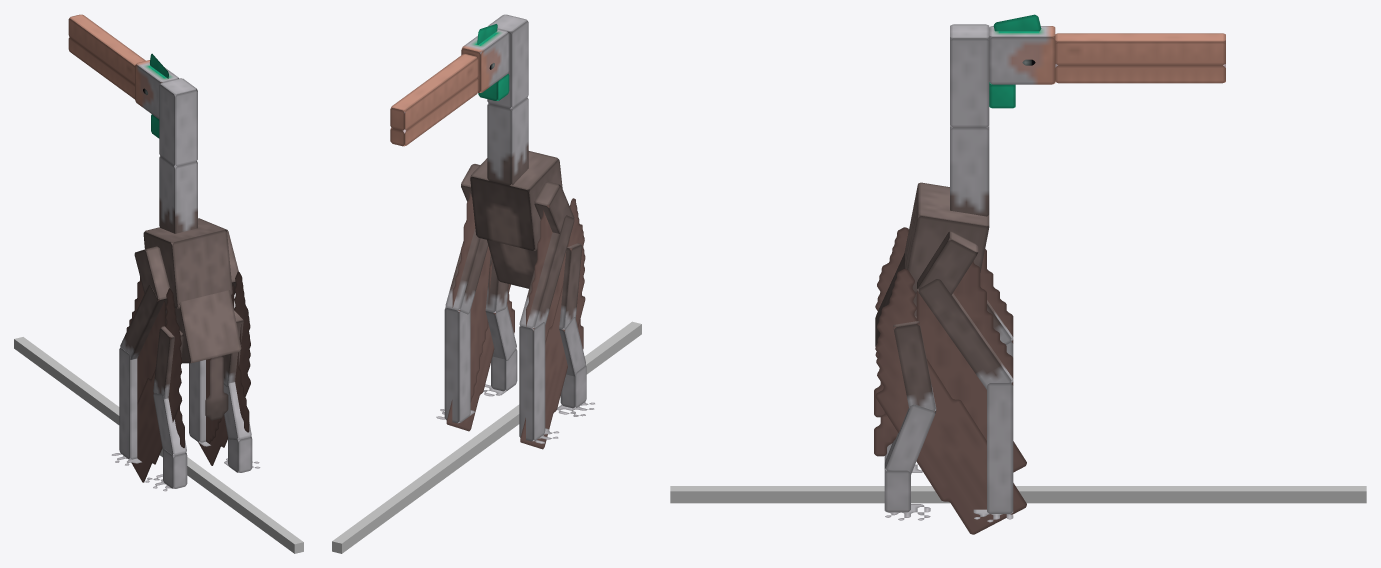
File: Quetzalcoatlus OBJ.obj
3 views of the same model, side by side, from view 1: azimuth 30°, elevation 25°; view 2: azimuth 150°, elevation 25°; view 3: azimuth 270°, elevation 25° (orthographic). The views are drawn at different scales.
Parts seen in each view (by area): view 1: cube; view 2: cube; view 3: cube.
Boxes of the visible parts, x1,y1,x2,y2 form: cube: [14, 14, 303, 553]; cube: [332, 14, 641, 553]; cube: [670, 14, 1366, 534].
Size of the model in its own units: 1.51 by 5.45 by 6.62.
Materials: 2 (1 with a texture image).
